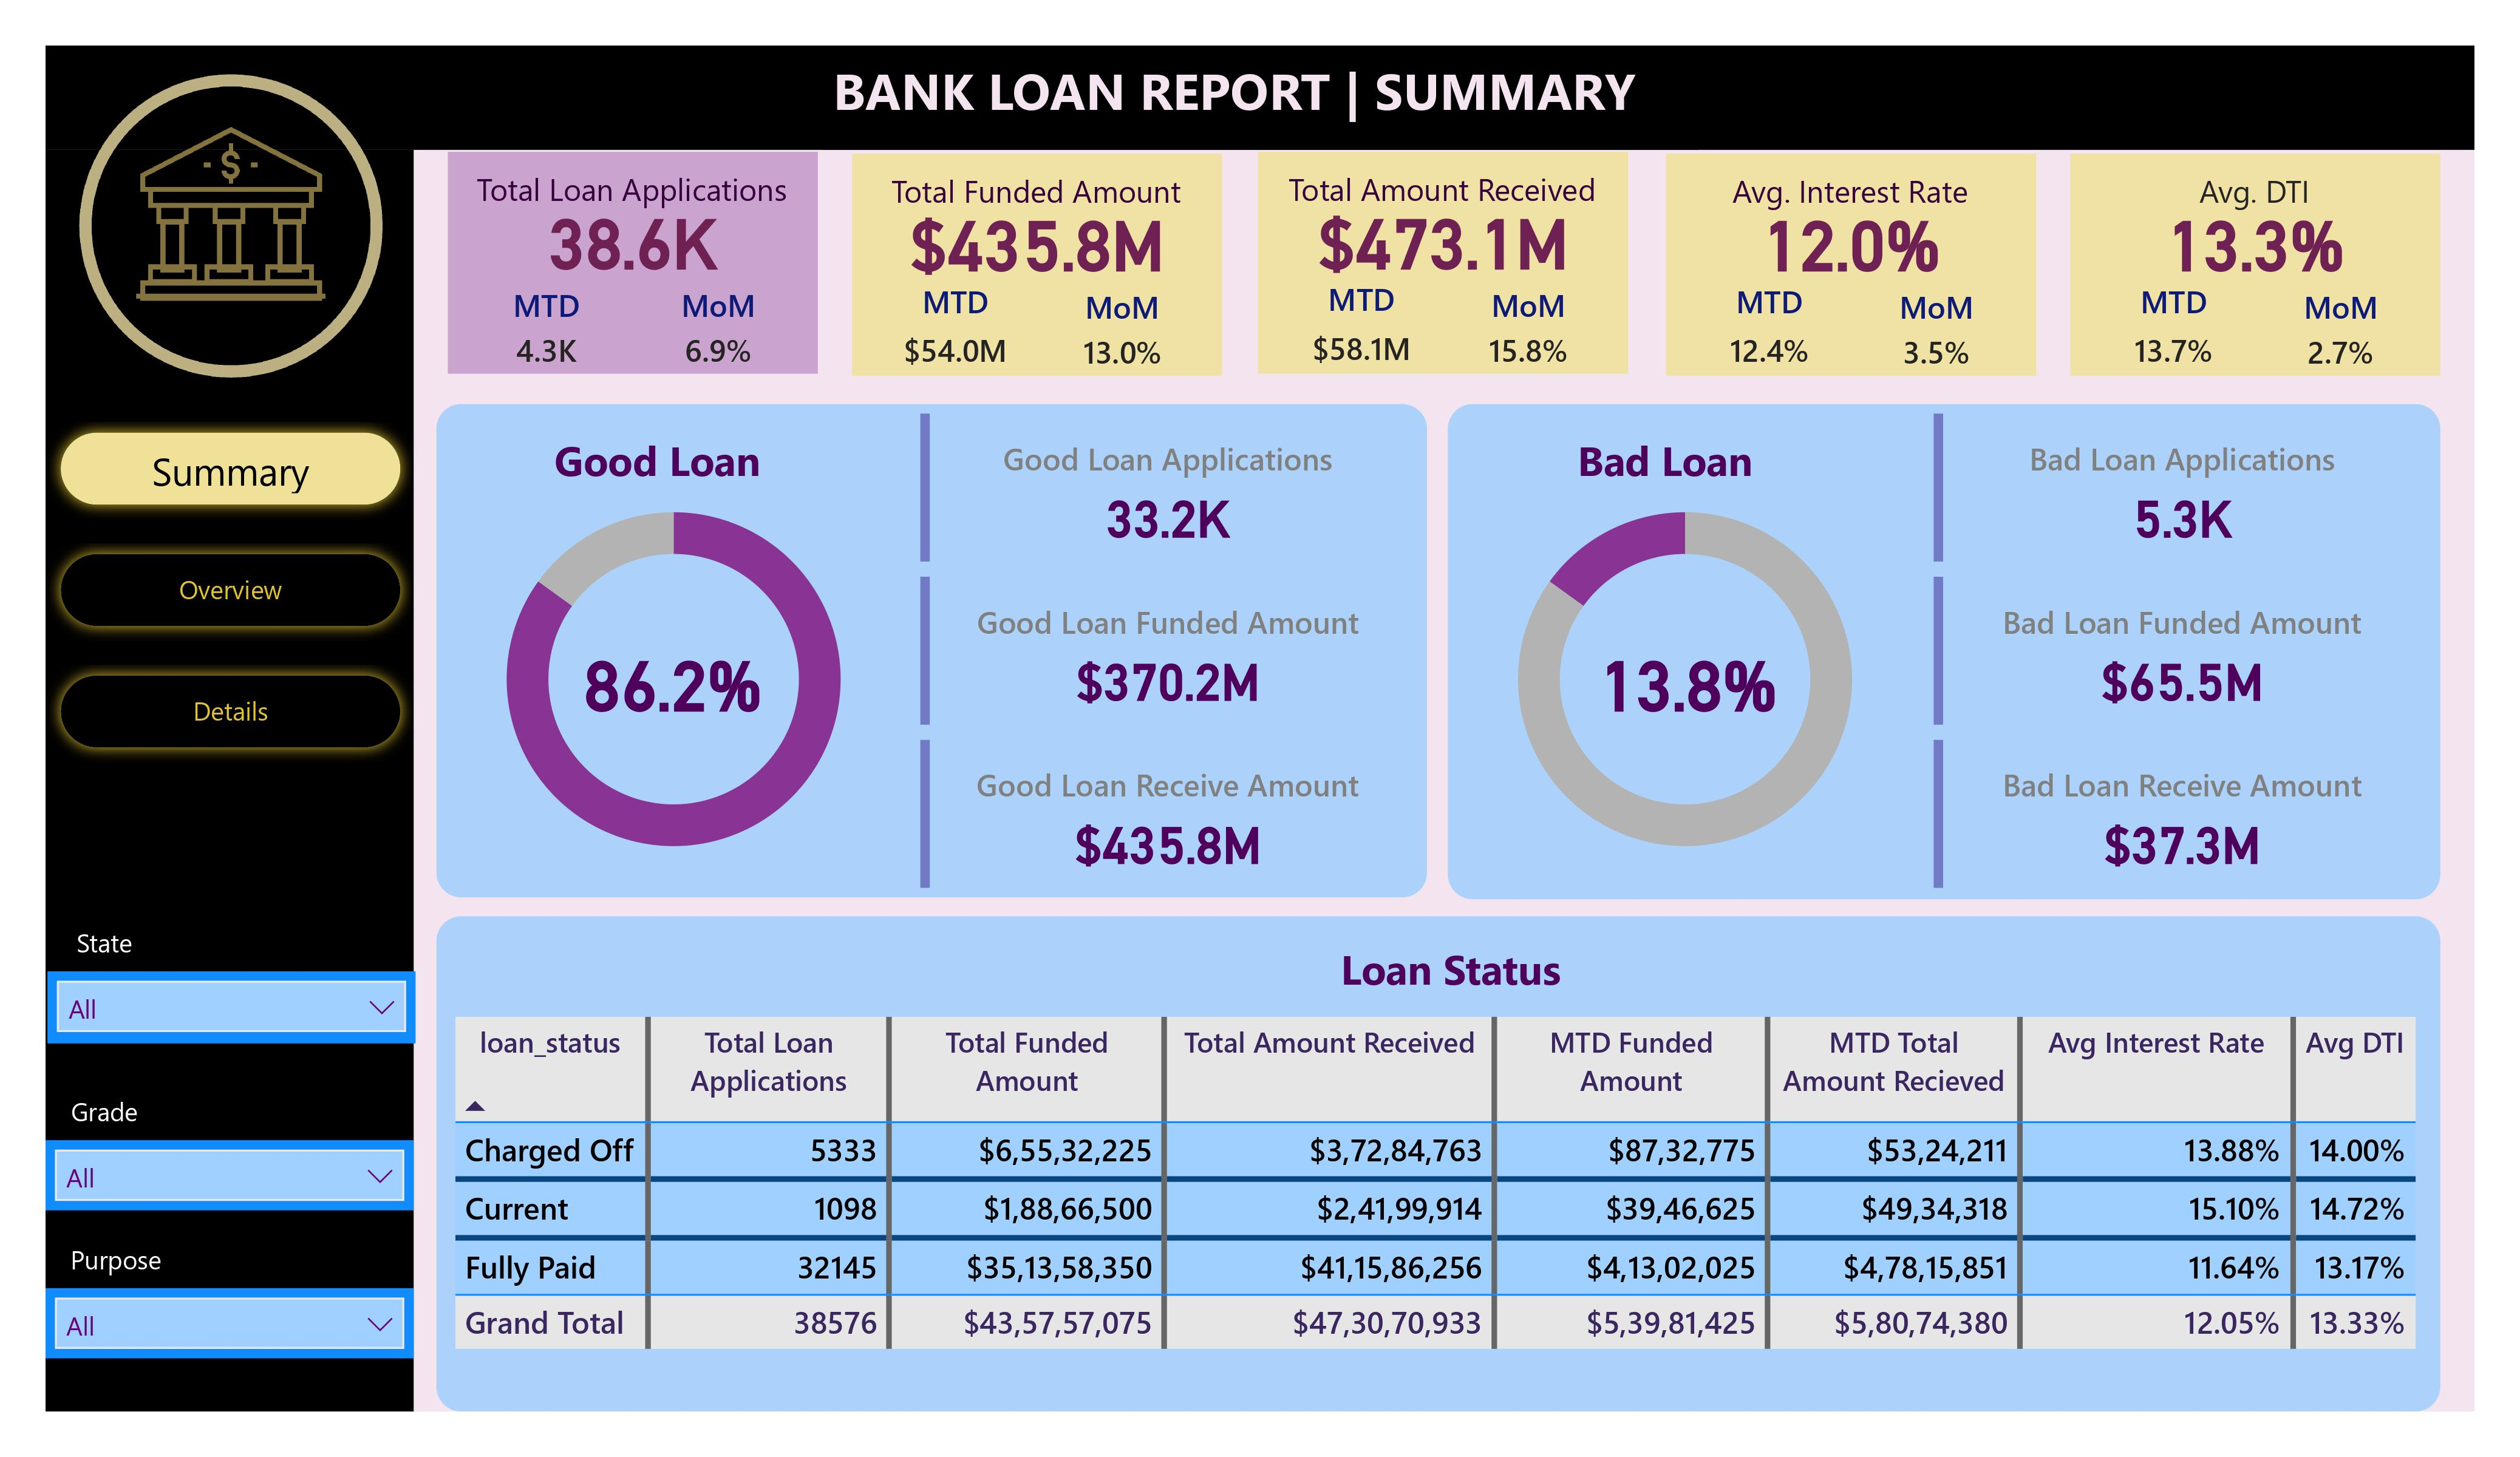

Layout of this report page (visuals, bound fields, positions):
{"tool":"powerbi","page":{"name":"Summary","canvas":[1280,720],"ordinal":0},"visuals":[{"type":"shape","box":[0,54.8,194,665.5],"z":0},{"type":"shape","box":[639.2,55.7,194.9,116.6],"z":0,"group":"g3"},{"type":"shape","box":[211.8,56.2,194.9,116.6],"z":0,"group":"g1"},{"type":"shape","box":[853.5,57.1,194.9,116.6],"z":0,"group":"g4"},{"type":"shape","box":[1066.6,57.1,194.9,116.6],"z":0,"group":"g5"},{"type":"shape","box":[424.9,57.3,194.9,116.6],"z":0,"group":"g2"},{"type":"shape","box":[0,0,1280.3,55],"z":1000},{"type":"card","fields":{"Values":["Bank_loan_Data.Total Amount Received"]},"box":[621.4,66.7,230.5,68.6],"z":1000,"group":"g3"},{"type":"card","fields":{"Values":["Bank_loan_Data.Total Loan Applications"]},"box":[194,67.2,230.5,68.6],"z":1000,"group":"g1"},{"type":"card","fields":{"Values":["Bank_loan_Data.Avg Interest Rate"]},"box":[835.7,68.1,230.5,68.6],"z":1000,"group":"g4"},{"type":"card","fields":{"Values":["Bank_loan_Data.Avg DTI"]},"box":[1048.8,68.1,230.5,68.6],"z":1000,"group":"g5"},{"type":"card","fields":{"Values":["Bank_loan_Data.Total Funded Amount"]},"box":[407.1,68.3,230.5,68.6],"z":1000,"group":"g2"},{"type":"textbox","box":[637.9,60,196.2,41.2],"z":2000,"group":"g3"},{"type":"textbox","box":[210.1,60.5,197.6,41.2],"z":2000,"group":"g1"},{"type":"textbox","box":[852.2,61.4,196.2,41.2],"z":2000,"group":"g4"},{"type":"textbox","box":[1065.3,61.4,196.2,41.2],"z":2000,"group":"g5"},{"type":"textbox","box":[423.6,61.6,196.2,41.2],"z":2000,"group":"g2"},{"type":"shape","box":[206,189.3,522,260],"z":2000},{"type":"card","title":"MTD","fields":{"Values":["Bank_loan_Data.MTD Total Amount Recieved"]},"box":[651.6,122.9,85.1,54.9],"z":3000,"group":"g3"},{"type":"card","title":"MTD","fields":{"Values":["Bank_loan_Data.MTD Avg Int Rate"]},"box":[865.9,124.3,85.1,54.9],"z":3000,"group":"g4"},{"type":"card","title":"MTD","fields":{"Values":["Bank_loan_Data.MTD Avg DTI"]},"box":[1079,124.3,85.1,54.9],"z":3000,"group":"g5"},{"type":"card","title":"MTD","fields":{"Values":["Bank_loan_Data.MTD Funded Amount"]},"box":[437.3,124.5,85.1,54.9],"z":3000,"group":"g2"},{"type":"card","title":"MTD","fields":{"Values":["Bank_loan_Data.MTD Loan Applications"]},"box":[232.4,126.2,63.1,50.8],"z":3000,"group":"g1"},{"type":"donutChart","fields":{"Category":["Bank_loan_Data.Good Vs Bad Loan"],"Y":["Bank_loan_Data.MTD Loan Applications"]},"box":[206,219,250,229.8],"z":3000},{"type":"card","title":"MoM","fields":{"Values":["Bank_loan_Data.MOM Total Amount Recieved"]},"box":[750.4,125.7,63.1,50.8],"z":4000,"group":"g3"},{"type":"card","title":"MoM","fields":{"Values":["Bank_loan_Data.MOM Loan Application"]},"box":[323,126.2,63.1,50.8],"z":4000,"group":"g1"},{"type":"card","title":"MoM","fields":{"Values":["Bank_loan_Data.MOM Avg Interest Rate"]},"box":[964.7,127.1,63.1,50.8],"z":4000,"group":"g4"},{"type":"card","title":"MoM","fields":{"Values":["Bank_loan_Data.MOM Avg DTI"]},"box":[1177.8,127.1,63.1,50.8],"z":4000,"group":"g5"},{"type":"card","title":"MoM","fields":{"Values":["Bank_loan_Data.MOM Total Funded Amount"]},"box":[536.1,127.3,63.1,50.8],"z":4000,"group":"g2"},{"type":"textbox","box":[223.8,198.8,197.6,40.5],"z":4000},{"type":"textbox","box":[410.3,0,461.1,54.9],"z":5000},{"type":"group","id":"g1","title":"Group 1","box":[194,56.2,231,121.4],"z":6000},{"type":"group","id":"g2","title":"Group 1","box":[407.1,57.3,231,122.6],"z":7000},{"type":"group","id":"g3","title":"Group 1","box":[621.4,55.7,231,122.6],"z":8000},{"type":"group","id":"g4","title":"Group 1","box":[835.7,57.1,231,121.4],"z":9000},{"type":"group","id":"g5","title":"Group 1","box":[1048.8,57.1,231,121.4],"z":10000},{"type":"shape","box":[739.3,189.3,522.6,260.7],"z":11000},{"type":"card","fields":{"Values":["Bank_loan_Data.Good Loan Percentage"]},"box":[215.5,300,231,69],"z":12000},{"type":"cardVisual","fields":{"Data":["Bank_loan_Data.Good Loan Applications","Bank_loan_Data.Good Loan Funded Amount","Bank_loan_Data.Good Loan Receive Amount"]},"box":[456,189.3,271.4,259.5],"z":13000},{"type":"donutChart","fields":{"Category":["Bank_loan_Data.Good Vs Bad Loan"],"Y":["Bank_loan_Data.MTD Loan Applications"]},"box":[739.3,219,250,229.8],"z":14000},{"type":"textbox","box":[754.8,198.8,197.6,40.5],"z":15000},{"type":"card","fields":{"Values":["Bank_loan_Data.Bad Loan Percentage"]},"box":[750,300,231,69],"z":16000},{"type":"cardVisual","fields":{"Data":["Bank_loan_Data.Bad Loan Applications","Bank_loan_Data.Bad Loan Funded Amount","Bank_loan_Data.Bad Loan Receive Amount"]},"box":[990.5,189.3,271.4,259.5],"z":17000},{"type":"shape","box":[205.8,459.3,1055.8,260.5],"z":18000},{"type":"tableEx","fields":{"Values":["Bank_loan_Data.loan_status","Bank_loan_Data.Total Loan Applications","Bank_loan_Data.Total Funded Amount","Bank_loan_Data.Total Amount Received","Bank_loan_Data.MTD Funded Amount","Bank_loan_Data.MTD Total Amount Recieved","Bank_loan_Data.Avg Interest Rate","Bank_loan_Data.Avg DTI"]},"box":[210.5,507,1057,184.9],"z":19000},{"type":"textbox","box":[641.7,466.7,197.6,40.5],"z":20000},{"type":"slicer","fields":{"Values":["Bank_loan_Data.address_state"]},"box":[1.2,488.4,194.2,37.2],"z":21000},{"type":"textbox","box":[0,459.3,61.6,29.1],"z":22000},{"type":"slicer","fields":{"Values":["Bank_loan_Data.purpose"]},"box":[0,654.7,194.2,37.2],"z":23000},{"type":"slicer","fields":{"Values":["Bank_loan_Data.grade"]},"box":[0,576.7,194.2,37.2],"z":24000},{"type":"textbox","box":[0,547.7,61.6,29.1],"z":25000},{"type":"textbox","box":[1.2,625.6,72.1,29.1],"z":26000},{"type":"image","box":[0,0,194,196.4],"z":26001},{"type":"pageNavigator","box":[0,196.4,195.2,182.1],"z":26002}]}

Visuals, with their boxes on the page's 1280x720 design canvas (x1, y1, x2, y2). These are canvas units, not pixel positions in the 2520x1457 screenshot, which may show the page scaled, cropped or inside an application window:
shape: box=[0, 55, 194, 720]
shape: box=[639, 56, 834, 172]
shape: box=[212, 56, 407, 173]
shape: box=[854, 57, 1048, 174]
shape: box=[1067, 57, 1262, 174]
shape: box=[425, 57, 620, 174]
shape: box=[0, 0, 1280, 55]
card - Bank_loan_Data.Total Amount Received: box=[621, 67, 852, 135]
card - Bank_loan_Data.Total Loan Applications: box=[194, 67, 424, 136]
card - Bank_loan_Data.Avg Interest Rate: box=[836, 68, 1066, 137]
card - Bank_loan_Data.Avg DTI: box=[1049, 68, 1279, 137]
card - Bank_loan_Data.Total Funded Amount: box=[407, 68, 638, 137]
textbox: box=[638, 60, 834, 101]
textbox: box=[210, 60, 408, 102]
textbox: box=[852, 61, 1048, 103]
textbox: box=[1065, 61, 1262, 103]
textbox: box=[424, 62, 620, 103]
shape: box=[206, 189, 728, 449]
"MTD" card: box=[652, 123, 737, 178]
"MTD" card: box=[866, 124, 951, 179]
"MTD" card: box=[1079, 124, 1164, 179]
"MTD" card: box=[437, 124, 522, 179]
"MTD" card: box=[232, 126, 296, 177]
donutChart - Bank_loan_Data.Good Vs Bad Loan x Bank_loan_Data.MTD Loan Applications: box=[206, 219, 456, 449]
"MoM" card: box=[750, 126, 814, 176]
"MoM" card: box=[323, 126, 386, 177]
"MoM" card: box=[965, 127, 1028, 178]
"MoM" card: box=[1178, 127, 1241, 178]
"MoM" card: box=[536, 127, 599, 178]
textbox: box=[224, 199, 421, 239]
textbox: box=[410, 0, 871, 55]
"Group 1" group: box=[194, 56, 425, 178]
"Group 1" group: box=[407, 57, 638, 180]
"Group 1" group: box=[621, 56, 852, 178]
"Group 1" group: box=[836, 57, 1067, 178]
"Group 1" group: box=[1049, 57, 1280, 178]
shape: box=[739, 189, 1262, 450]
card - Bank_loan_Data.Good Loan Percentage: box=[216, 300, 446, 369]
cardVisual - Bank_loan_Data.Good Loan Applications x Bank_loan_Data.Good Loan Funded Amount: box=[456, 189, 727, 449]
donutChart - Bank_loan_Data.Good Vs Bad Loan x Bank_loan_Data.MTD Loan Applications: box=[739, 219, 989, 449]
textbox: box=[755, 199, 952, 239]
card - Bank_loan_Data.Bad Loan Percentage: box=[750, 300, 981, 369]
cardVisual - Bank_loan_Data.Bad Loan Applications x Bank_loan_Data.Bad Loan Funded Amount: box=[990, 189, 1262, 449]
shape: box=[206, 459, 1262, 720]
tableEx - Bank_loan_Data.loan_status x Bank_loan_Data.Total Loan Applications: box=[210, 507, 1268, 692]
textbox: box=[642, 467, 839, 507]
slicer - Bank_loan_Data.address_state: box=[1, 488, 195, 526]
textbox: box=[0, 459, 62, 488]
slicer - Bank_loan_Data.purpose: box=[0, 655, 194, 692]
slicer - Bank_loan_Data.grade: box=[0, 577, 194, 614]
textbox: box=[0, 548, 62, 577]
textbox: box=[1, 626, 73, 655]
image: box=[0, 0, 194, 196]
pageNavigator: box=[0, 196, 195, 378]
